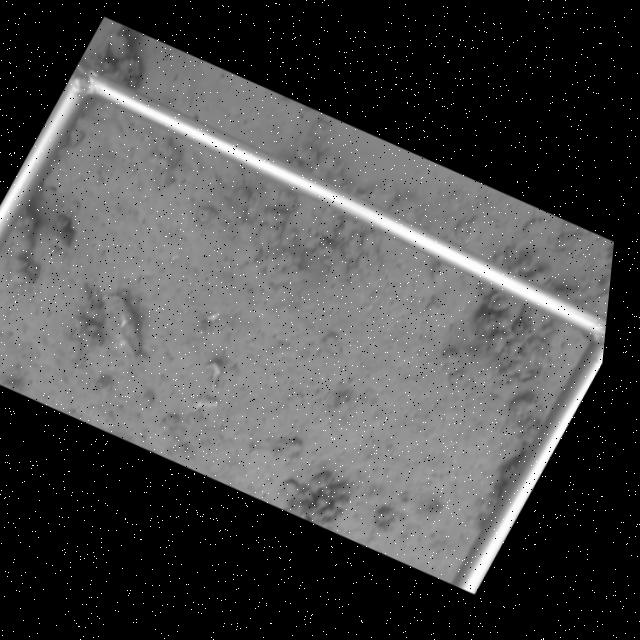Oyster-Indeterminate: (99, 293, 144, 359)
